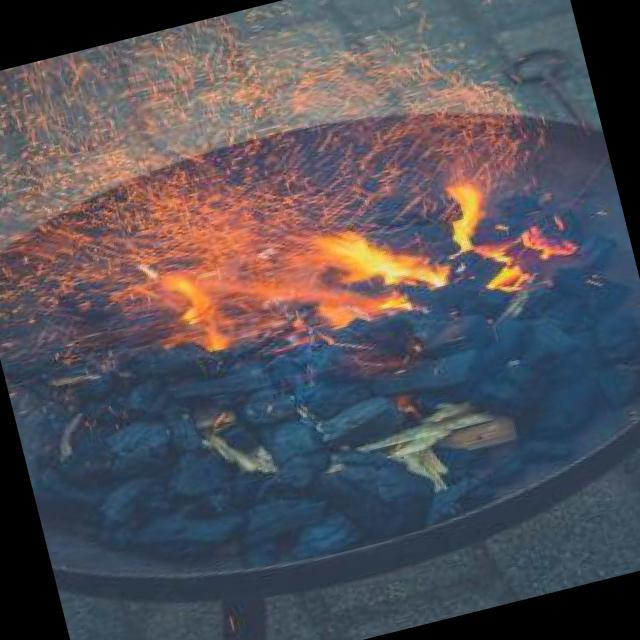Fire: (82, 129, 530, 390)
